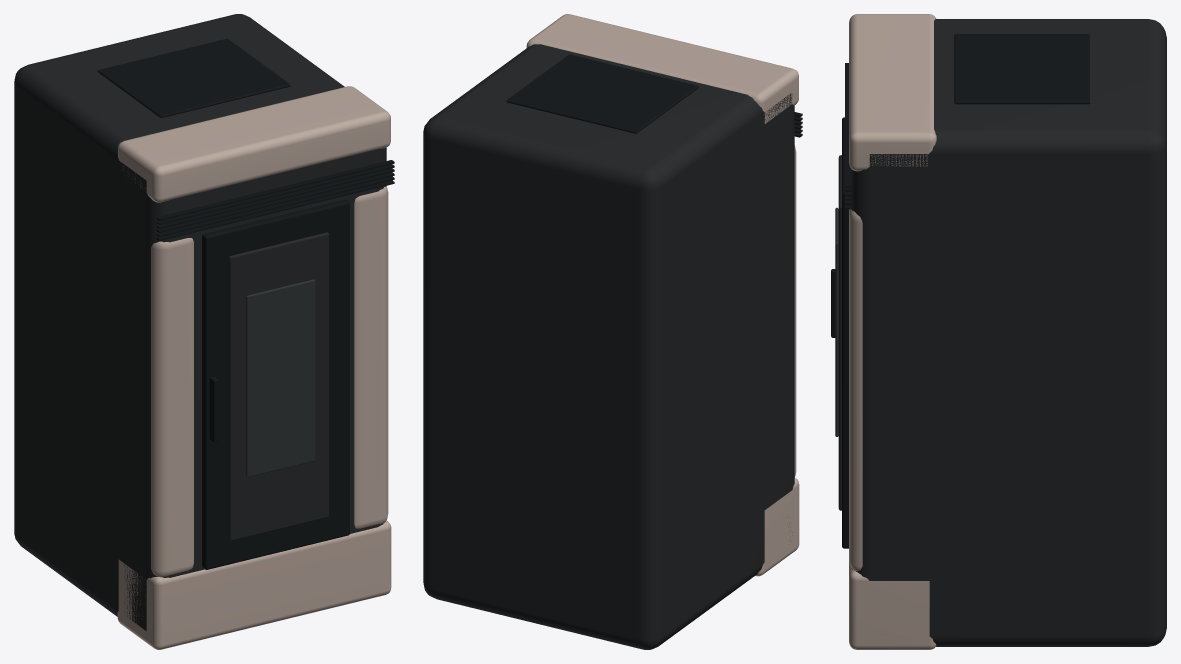
The model's file is nordica-lucia16-tortora.glb.
3 views of the same model, side by side, from view 1: azimuth 30°, elevation 25°; view 2: azimuth 150°, elevation 25°; view 3: azimuth 270°, elevation 25° (orthographic). The views are drawn at different scales.
Parts seen in each view (by area): view 1: Chassis posteriore, Sportello nero, Rivestimento inferiore, Rivestimento superiore, Cornice vetro, Montante anteriore, Vetro sportello, Montante anteriore.001, Coperchio pellet, Griglia mandata, Griglia mandata.001, Griglia mandata.002 (+4 smaller); view 2: Chassis posteriore, Rivestimento superiore, Coperchio pellet, Rivestimento inferiore, Montante anteriore; view 3: Chassis posteriore, Rivestimento superiore, Coperchio pellet, Rivestimento inferiore, Montante anteriore.001, Sportello nero, Cornice vetro, Vetro sportello, Griglia mandata.
Boxes of the visible parts, x1,y1,x2,y2 form: Chassis posteriore: (14, 14, 386, 630); Sportello nero: (202, 199, 349, 569); Rivestimento inferiore: (117, 520, 391, 649); Rivestimento superiore: (118, 86, 390, 202); Cornice vetro: (228, 232, 328, 541); Montante anteriore: (151, 238, 193, 577); Vetro sportello: (246, 279, 315, 477); Montante anteriore.001: (354, 186, 388, 528); Coperchio pellet: (97, 38, 290, 117); Griglia mandata: (156, 160, 394, 220); Griglia mandata.001: (156, 164, 394, 224); Griglia mandata.002: (156, 168, 394, 228); Chassis posteriore: (423, 44, 794, 649); Rivestimento superiore: (526, 14, 798, 123); Coperchio pellet: (506, 54, 698, 133); Rivestimento inferiore: (755, 478, 799, 576); Montante anteriore: (794, 145, 796, 476); Chassis posteriore: (851, 19, 1166, 646); Rivestimento superiore: (849, 14, 936, 171); Coperchio pellet: (954, 34, 1089, 104); Rivestimento inferiore: (849, 561, 936, 649); Montante anteriore.001: (849, 209, 862, 571); Sportello nero: (842, 117, 848, 548); Cornice vetro: (838, 155, 841, 510); Vetro sportello: (835, 207, 838, 436); Griglia mandata: (845, 63, 851, 187).
Bounding box in the file's own units: 0.556 × 1.09 × 0.635.
